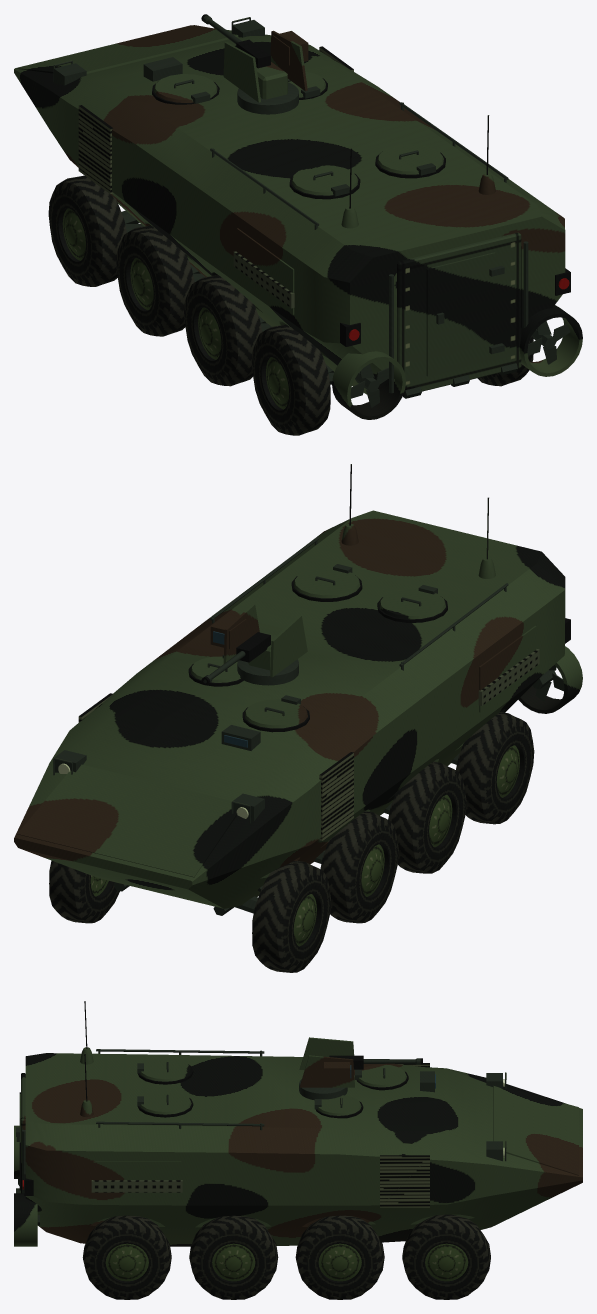
Rendered from amphibious_apc.glb.
3 views of the same model, one above another, from view 1: azimuth 30°, elevation 25°; view 2: azimuth 150°, elevation 25°; view 3: azimuth 270°, elevation 25° (orthographic). The views are drawn at different scales.
Parts seen in each view (by area): view 1: hull, ramp, wheel_L_0, wheel_L_3, wheel_L_2, wheel_L_1, turret, cannon, wheel_R_0; view 2: hull, wheel_L_3, wheel_L_2, wheel_L_0, wheel_L_1, turret, wheel_R_3, cannon; view 3: hull, wheel_R_3, wheel_R_0, wheel_R_2, wheel_R_1, turret, ramp, cannon.
Boxes of the visible parts, bbox=[...] form: hull: bbox=[14, 17, 582, 419]; ramp: bbox=[397, 232, 521, 396]; wheel_L_0: bbox=[251, 324, 330, 435]; wheel_L_3: bbox=[48, 175, 126, 286]; wheel_L_2: bbox=[116, 225, 194, 336]; wheel_L_1: bbox=[184, 275, 262, 386]; turret: bbox=[223, 30, 308, 114]; cannon: bbox=[201, 14, 270, 68]; wheel_R_0: bbox=[477, 336, 533, 386]; hull: bbox=[14, 464, 582, 915]; wheel_L_3: bbox=[252, 860, 331, 972]; wheel_L_2: bbox=[320, 811, 398, 923]; wheel_L_0: bbox=[456, 712, 534, 824]; wheel_L_1: bbox=[388, 761, 466, 873]; turret: bbox=[210, 604, 307, 685]; wheel_R_3: bbox=[49, 860, 119, 923]; cannon: bbox=[201, 632, 270, 685]; hull: bbox=[14, 1001, 582, 1246]; wheel_R_3: bbox=[402, 1214, 490, 1299]; wheel_R_0: bbox=[82, 1215, 171, 1299]; wheel_R_2: bbox=[295, 1215, 384, 1299]; wheel_R_1: bbox=[189, 1215, 278, 1299]; turret: bbox=[299, 1037, 354, 1100]; ramp: bbox=[16, 1073, 25, 1193]; cannon: bbox=[329, 1055, 422, 1069].
Bounding box in the file's own units: 3.62 × 4.1 × 9.14.
1 material, 1 textured.
